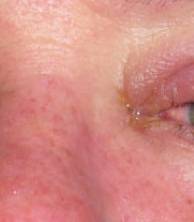SJS-TEN: (104, 79, 183, 147)
